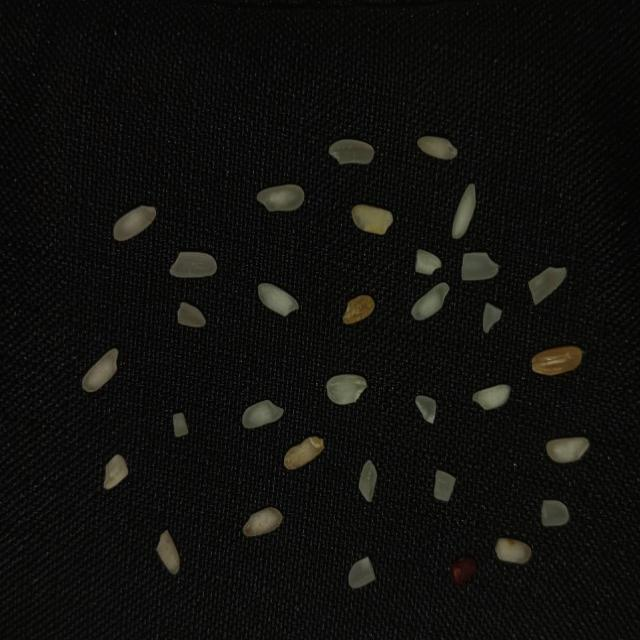Broken: (530, 345, 582, 376), (528, 266, 567, 306), (352, 203, 394, 235), (155, 529, 180, 576), (461, 252, 499, 282), (494, 536, 532, 564), (342, 294, 375, 326), (103, 453, 129, 490), (348, 556, 376, 588), (358, 459, 378, 503), (452, 555, 478, 588), (541, 499, 569, 527), (415, 248, 442, 276), (178, 301, 206, 328), (434, 469, 456, 502), (482, 302, 503, 334), (416, 394, 436, 424), (173, 413, 188, 437)
Full: (411, 280, 450, 323), (82, 347, 118, 393), (113, 205, 157, 242), (257, 282, 299, 318), (255, 184, 305, 212), (169, 250, 218, 278), (452, 183, 476, 240), (284, 437, 325, 470), (242, 398, 284, 429), (326, 374, 368, 404), (243, 506, 283, 537), (328, 140, 375, 165), (546, 438, 590, 463), (417, 135, 459, 160), (472, 384, 512, 410)
